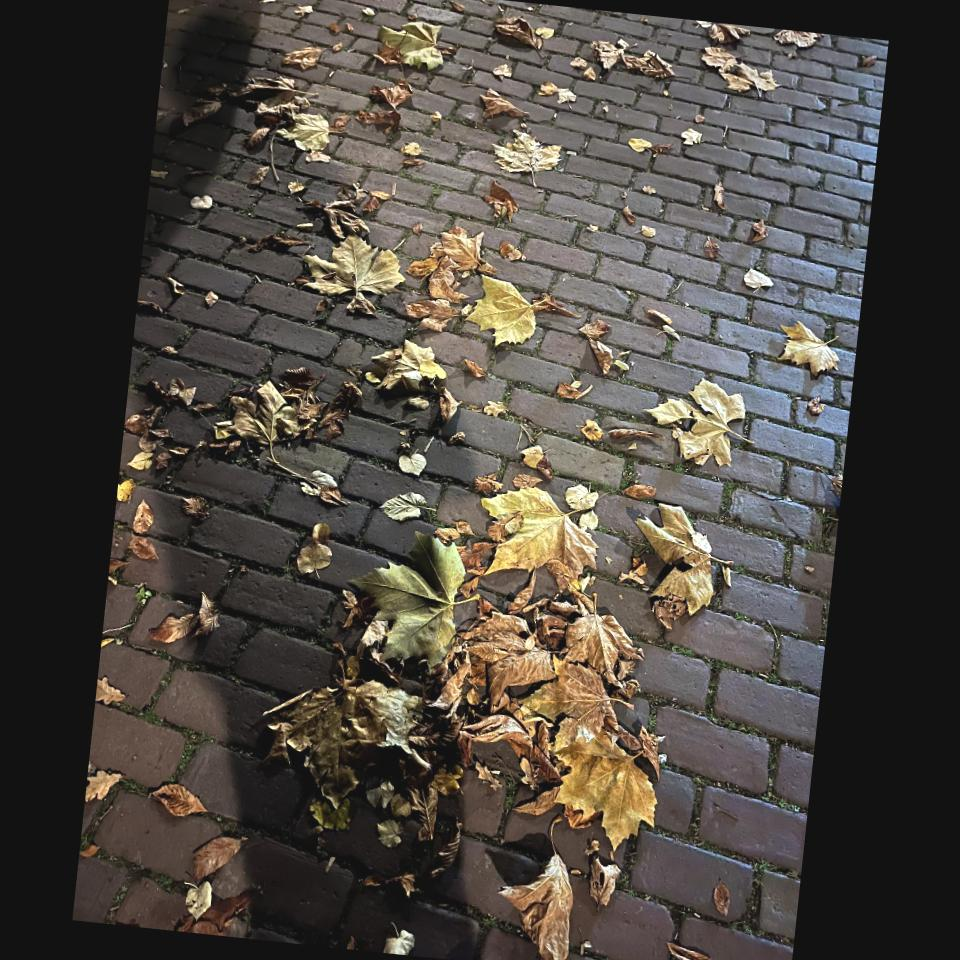weed: (135, 584, 152, 605)
